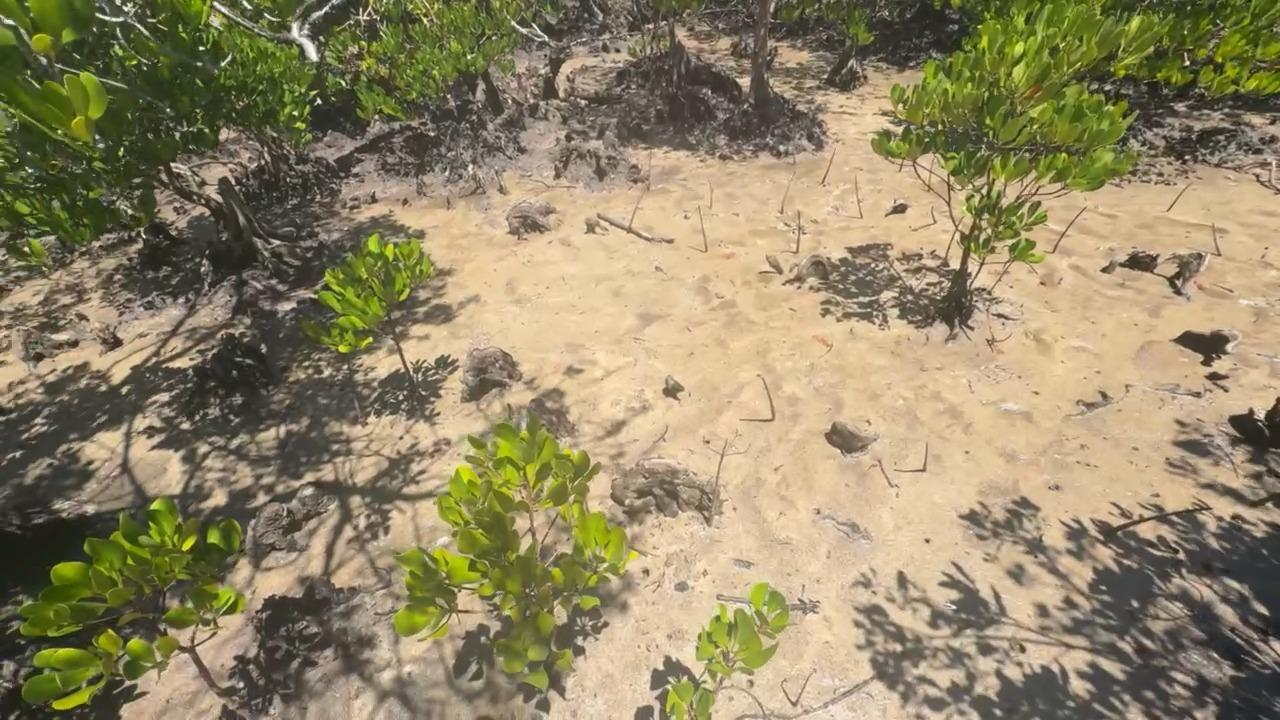Tree: (667, 581, 790, 720), (988, 238, 1046, 296), (1103, 507, 1214, 536), (707, 438, 729, 526), (1052, 205, 1087, 254), (944, 216, 965, 261), (628, 189, 647, 234), (794, 669, 817, 706), (760, 375, 776, 422), (1166, 183, 1190, 212), (781, 171, 795, 214), (696, 204, 708, 251), (821, 148, 836, 183), (854, 175, 863, 219), (1211, 222, 1222, 257), (928, 155, 936, 192), (647, 143, 652, 189), (795, 209, 800, 252), (924, 443, 929, 471), (709, 180, 713, 210), (931, 205, 936, 224)
